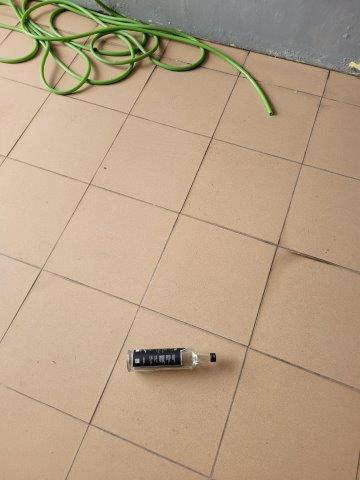botolkaca: (126, 349, 216, 369)
